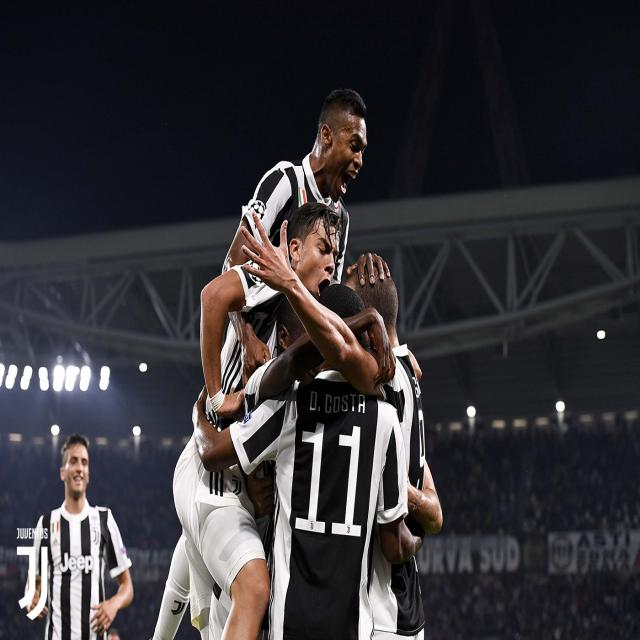body: (149, 84, 369, 640), (166, 186, 350, 640), (188, 266, 411, 639), (239, 208, 429, 640), (237, 280, 400, 640), (411, 386, 640, 639), (17, 428, 137, 640), (0, 520, 177, 640), (104, 621, 128, 640)
